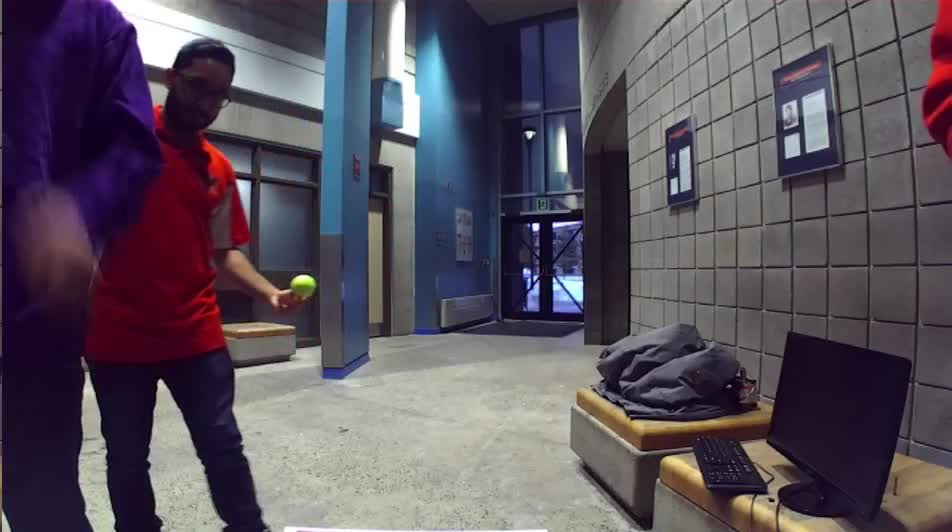tennis_ball: (290, 273, 316, 300)
